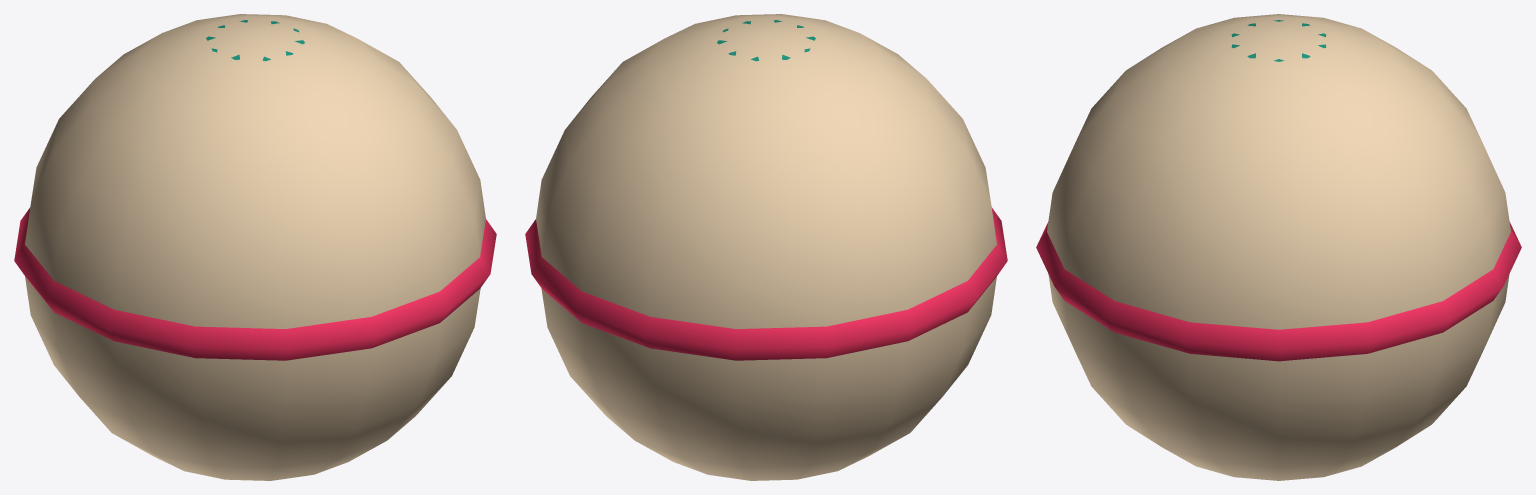
Rendered from wurfball.glb.
3 renders of one model, left to right at view 1: azimuth 30°, elevation 25°; view 2: azimuth 150°, elevation 25°; view 3: azimuth 270°, elevation 25°, orthographic.
Visible parts, largest first — view 1: Wurfball; view 2: Wurfball; view 3: Wurfball.
Part boxes in pixels (<box>): Wurfball: <box>14,14,496,480</box>; Wurfball: <box>525,14,1007,480</box>; Wurfball: <box>1036,14,1521,480</box>.
Size of the model in its own units: 0.228 by 0.22 by 0.228.
Materials: 1 (1 with a texture image).
